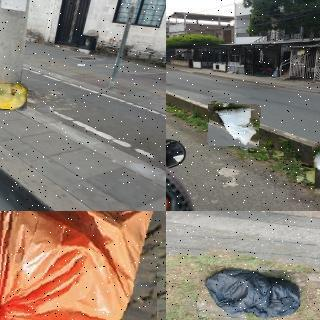Garbage: (0, 211, 165, 320), (197, 267, 308, 320), (207, 103, 260, 147), (0, 81, 27, 110)
